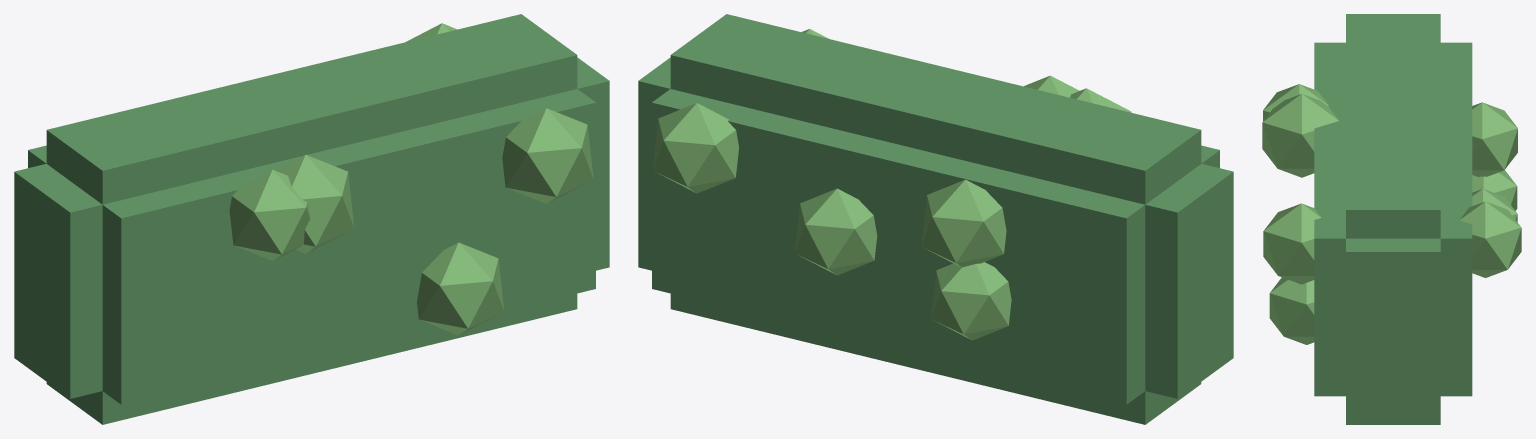
The model's file is HOB_Hedge_2m.fbx.
The picture shows the model from 3 angles, left to right: view 1: azimuth 30°, elevation 25°; view 2: azimuth 150°, elevation 25°; view 3: azimuth 270°, elevation 25°; orthographic projection. The views are drawn at different scales.
Parts seen in each view (by area): view 1: HOB_Hedge_2m; view 2: HOB_Hedge_2m; view 3: HOB_Hedge_2m.
Part boxes in pixels (<box>): HOB_Hedge_2m: <box>14,14,609,424</box>; HOB_Hedge_2m: <box>638,14,1233,424</box>; HOB_Hedge_2m: <box>1262,14,1521,424</box>.
Size of the model in its own units: 200 by 90 by 98.3.
